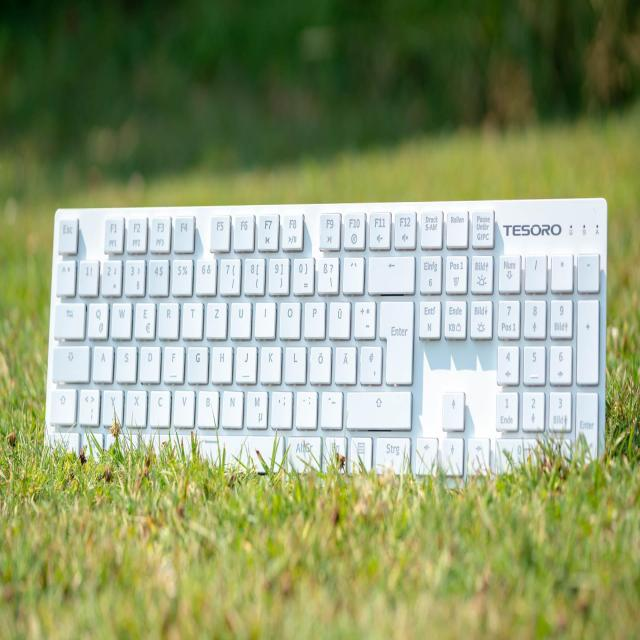0: (291, 253, 313, 292)
1: (77, 255, 97, 293)
2: (100, 256, 121, 293)
3: (123, 255, 144, 293)
4: (147, 255, 168, 293)
5: (170, 254, 191, 293)
6: (194, 254, 216, 292)
7: (218, 254, 240, 293)
8: (242, 253, 264, 293)
9: (266, 253, 288, 292)
a: (91, 341, 112, 380)
accent: (341, 252, 363, 291)
ae: (333, 341, 355, 382)
altgr-right: (284, 431, 322, 475)
b: (196, 385, 217, 426)
c: (148, 386, 170, 425)
caret: (54, 256, 74, 292)
comma: (269, 386, 291, 426)
d: (138, 342, 159, 381)
del: (366, 251, 414, 291)
e: (133, 298, 154, 337)
enter: (377, 295, 412, 382)
f: (162, 342, 183, 381)
g: (185, 341, 207, 381)
h: (210, 342, 231, 380)
hash: (359, 344, 382, 385)
i: (253, 298, 274, 336)
j: (234, 341, 255, 381)
k: (258, 342, 280, 380)
keyboard: (43, 192, 611, 481)
l: (283, 342, 305, 381)
less: (77, 384, 99, 422)
m: (244, 386, 267, 427)
minus: (319, 386, 341, 426)
n: (220, 386, 242, 425)
o: (277, 298, 299, 337)
oe: (308, 342, 330, 381)
p: (302, 296, 324, 336)
plus: (352, 296, 374, 337)
point: (295, 386, 317, 426)
q: (86, 297, 107, 336)
r: (156, 298, 178, 337)
s: (114, 342, 135, 381)
shift-left: (48, 385, 75, 423)
shift-lock: (50, 341, 88, 380)
shift-right: (344, 386, 410, 427)
space: (105, 431, 285, 473)
ss: (316, 254, 338, 292)
strg-right: (373, 433, 411, 475)
t: (181, 297, 202, 336)
tab: (53, 298, 84, 336)
u: (228, 298, 250, 337)
ue: (327, 296, 349, 337)
v: (173, 389, 195, 429)
w: (110, 297, 131, 336)
x: (124, 385, 146, 425)
y: (101, 385, 122, 424)
z: (204, 297, 226, 336)
